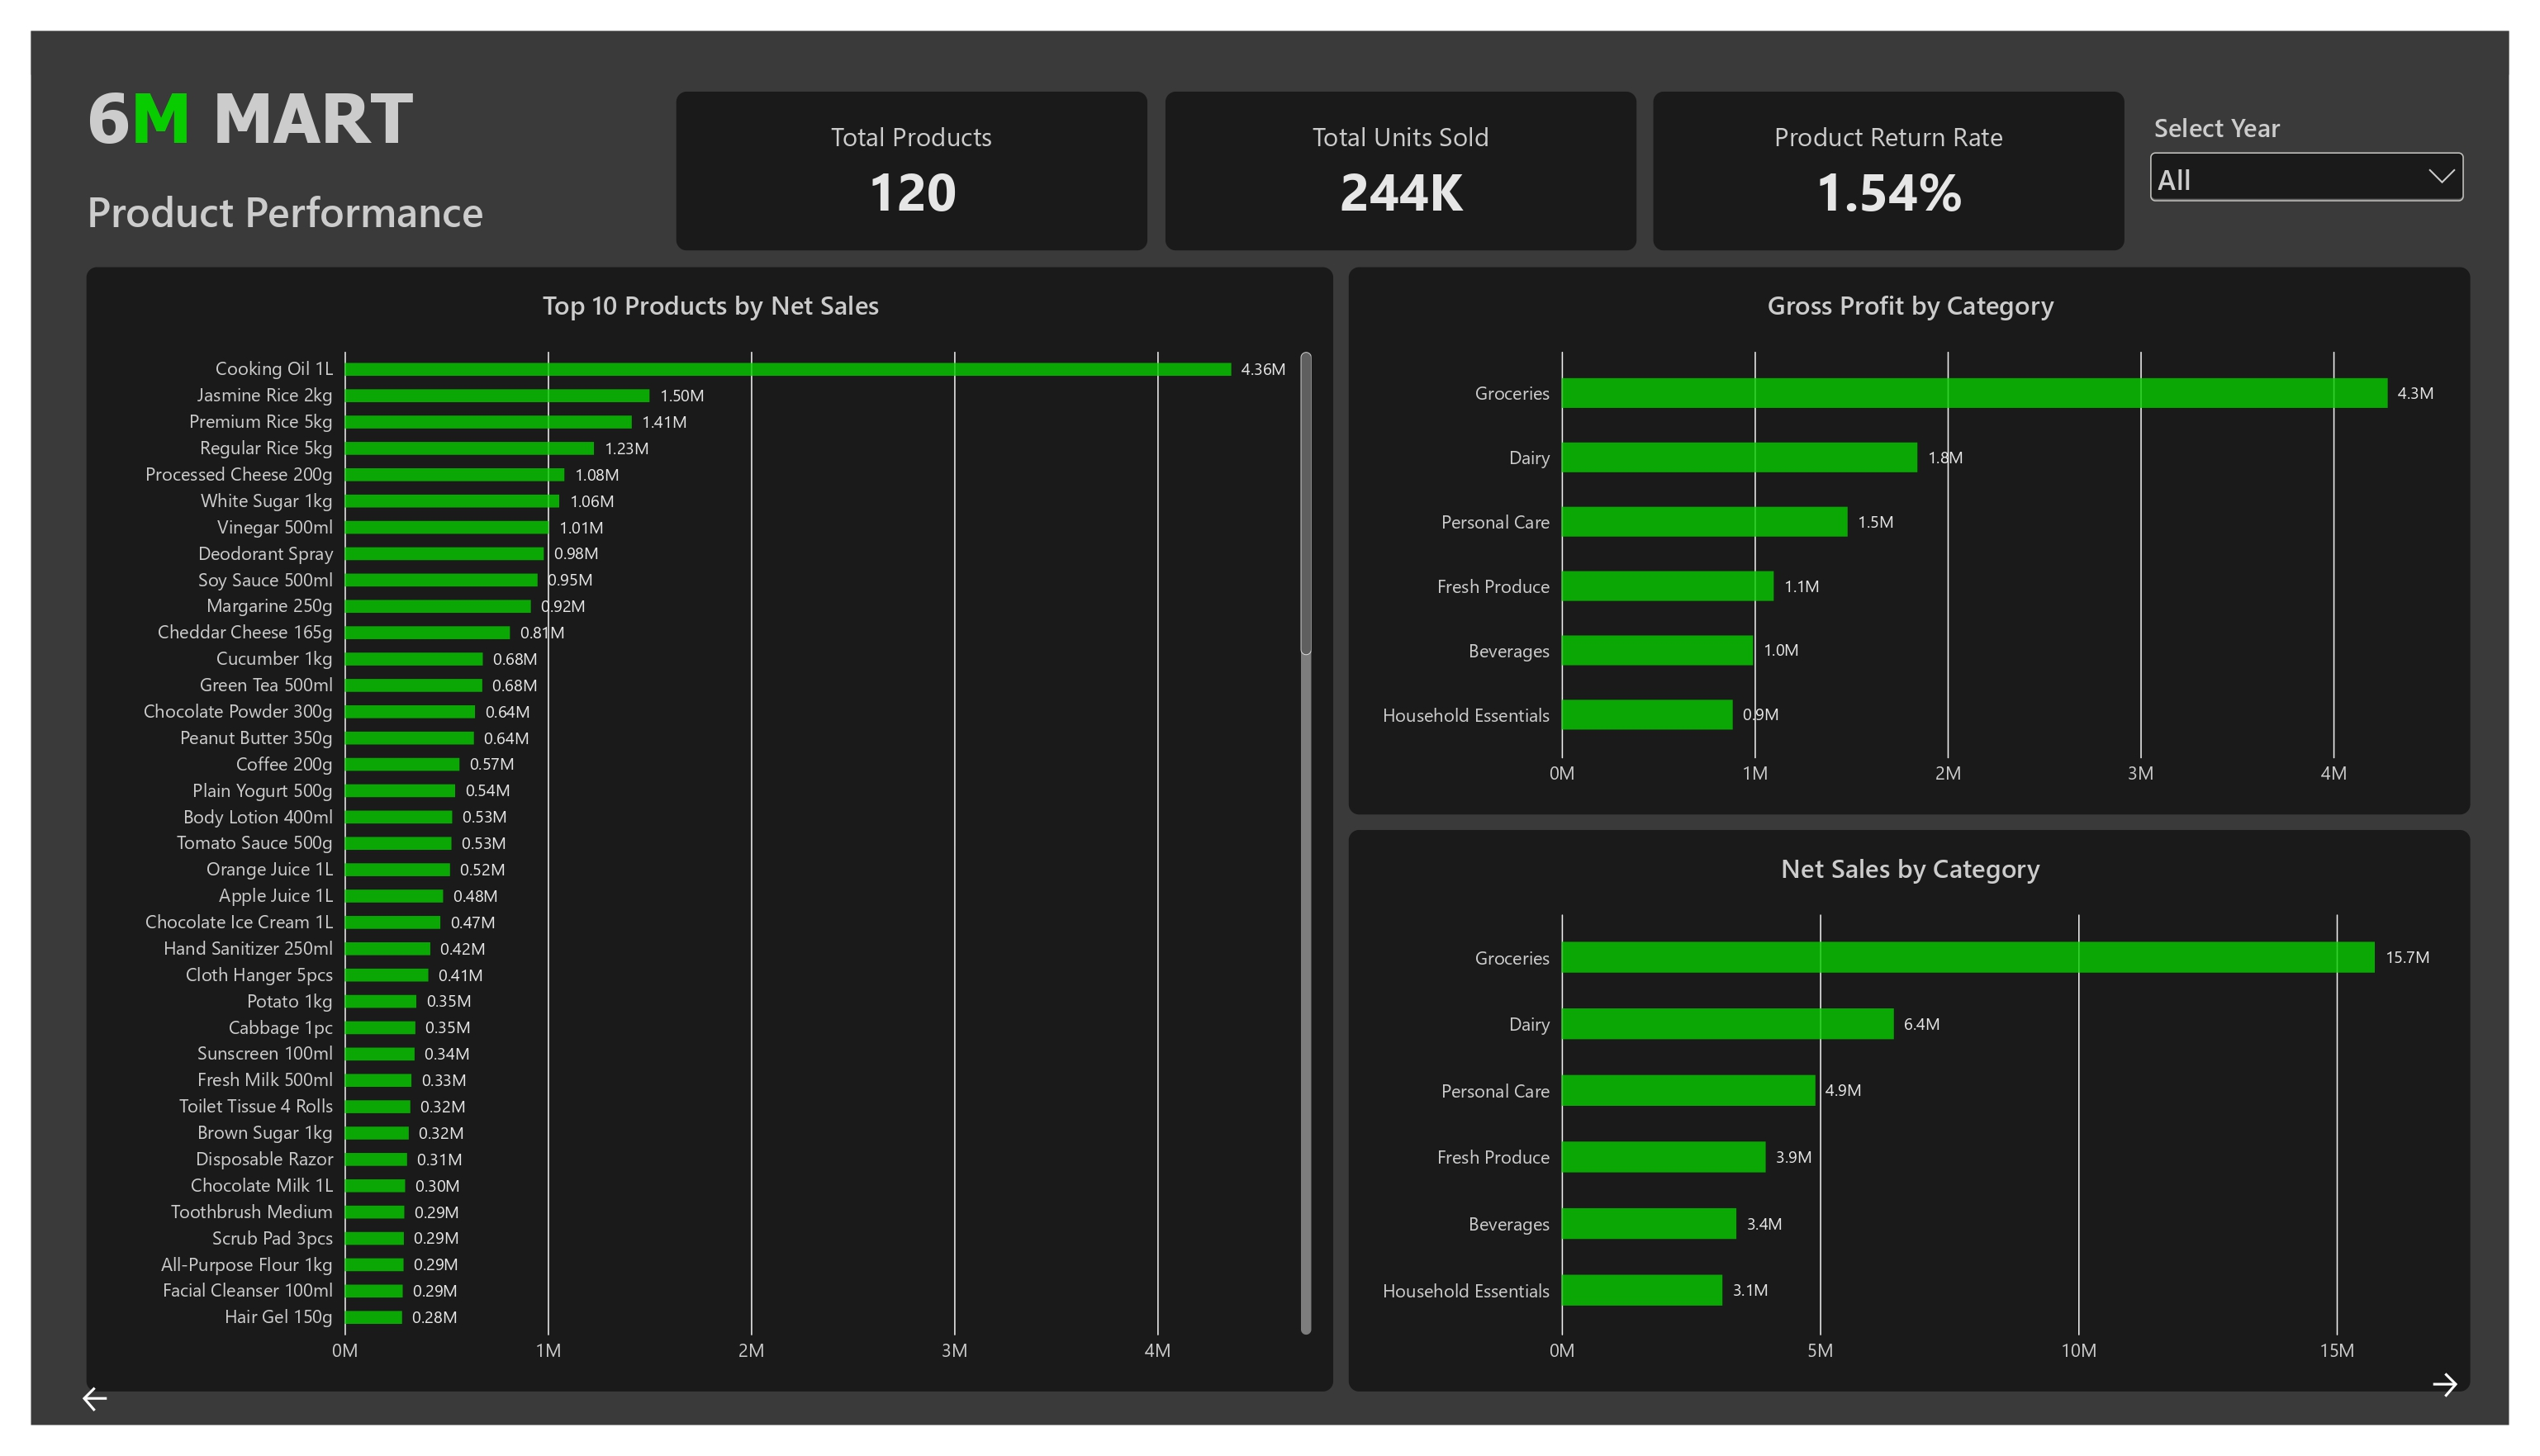

This screenshot's page, from the dashboard's own definition file:
{"tool":"powerbi","page":{"name":"Product Performance","canvas":[1920,1080],"ordinal":2},"visuals":[{"type":"textbox","box":[42.9,34.3,457.1,148.6],"z":0},{"type":"cardVisual","fields":{"Data":["CountNonNull(public dim_products.product_name)"]},"box":[500,47.1,365,123.3],"z":1000},{"type":"cardVisual","fields":{"Data":["_Measures.Total Units Sold"]},"box":[878.6,47.1,365,123.3],"z":2000},{"type":"cardVisual","fields":{"Data":["_Measures.Return Rate"]},"box":[1257.1,47.1,365,123.3],"z":3000},{"type":"clusteredBarChart","title":"Top 10 Products by Net Sales","fields":{"Category":["public dim_products.product_name"],"Y":["_Measures.Net Sales"]},"box":[42.9,182.9,965.7,871.4],"z":4000},{"type":"clusteredBarChart","title":"Net Sales by Category","fields":{"Category":["public dim_products.category"],"Y":["_Measures.Net Sales"]},"box":[1021.4,618.6,868.6,435.7],"z":5000},{"type":"clusteredBarChart","title":"Gross Profit by Category","fields":{"Category":["public dim_products.category"],"Y":["_Measures.Gross Profit"]},"box":[1021.4,182.9,868.6,424.3],"z":6000},{"type":"slicer","fields":{"Values":["public dim_date.year"]},"box":[1637.1,60,253.3,95],"z":7000},{"type":"actionButton","box":[1820,1028.6,100,40],"z":7001},{"type":"actionButton","box":[0,1040,100,40],"z":7002}]}

Visuals, with their boxes on the page's 1920x1080 design canvas (x1, y1, x2, y2). These are canvas units, not pixel positions in the 2540x1456 screenshot, which may show the page scaled, cropped or inside an application window:
textbox: 43:34:500:183
cardVisual - CountNonNull(public dim_products.product_name): 500:47:865:170
cardVisual - _Measures.Total Units Sold: 879:47:1244:170
cardVisual - _Measures.Return Rate: 1257:47:1622:170
"Top 10 Products by Net Sales" clusteredBarChart: 43:183:1009:1054
"Net Sales by Category" clusteredBarChart: 1021:619:1890:1054
"Gross Profit by Category" clusteredBarChart: 1021:183:1890:607
slicer - public dim_date.year: 1637:60:1890:155
actionButton: 1820:1029:1920:1069
actionButton: 0:1040:100:1080
